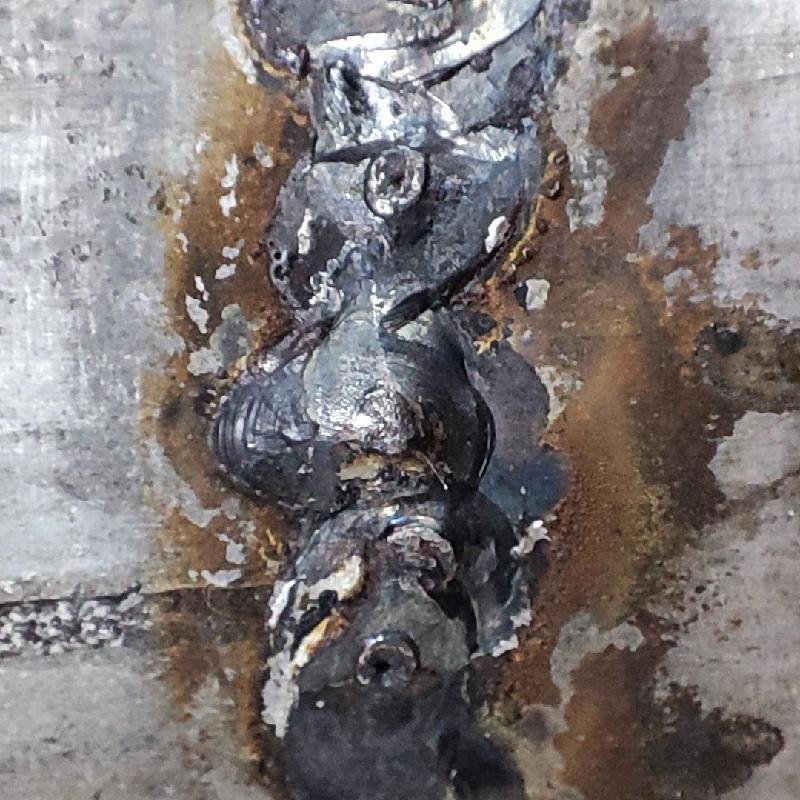Surface_pores: (372, 145, 423, 210), (356, 641, 415, 690)
wrong_size: (232, 3, 536, 793)
